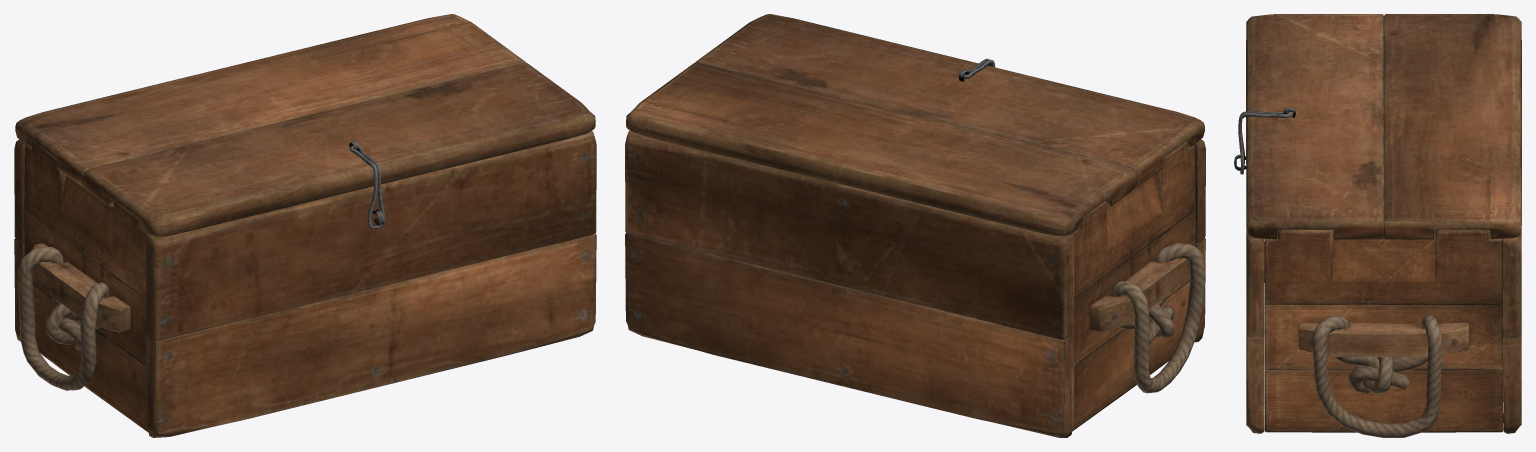
The model's file is wooden_crate_01.glb.
3 views of the same model, side by side, from view 1: azimuth 30°, elevation 25°; view 2: azimuth 150°, elevation 25°; view 3: azimuth 270°, elevation 25° (orthographic). The views are drawn at different scales.
Visible parts, largest first — view 1: wooden_crate_01; view 2: wooden_crate_01; view 3: wooden_crate_01.
Boxes of the visible parts, x1=… form: wooden_crate_01: x1=14, y1=14, x2=596, y2=437; wooden_crate_01: x1=625, y1=14, x2=1205, y2=437; wooden_crate_01: x1=1234, y1=14, x2=1521, y2=437.
Bounding box in the file's own units: 0.8245 × 0.3496 × 0.4089.
Materials: 1 (1 with a texture image).
